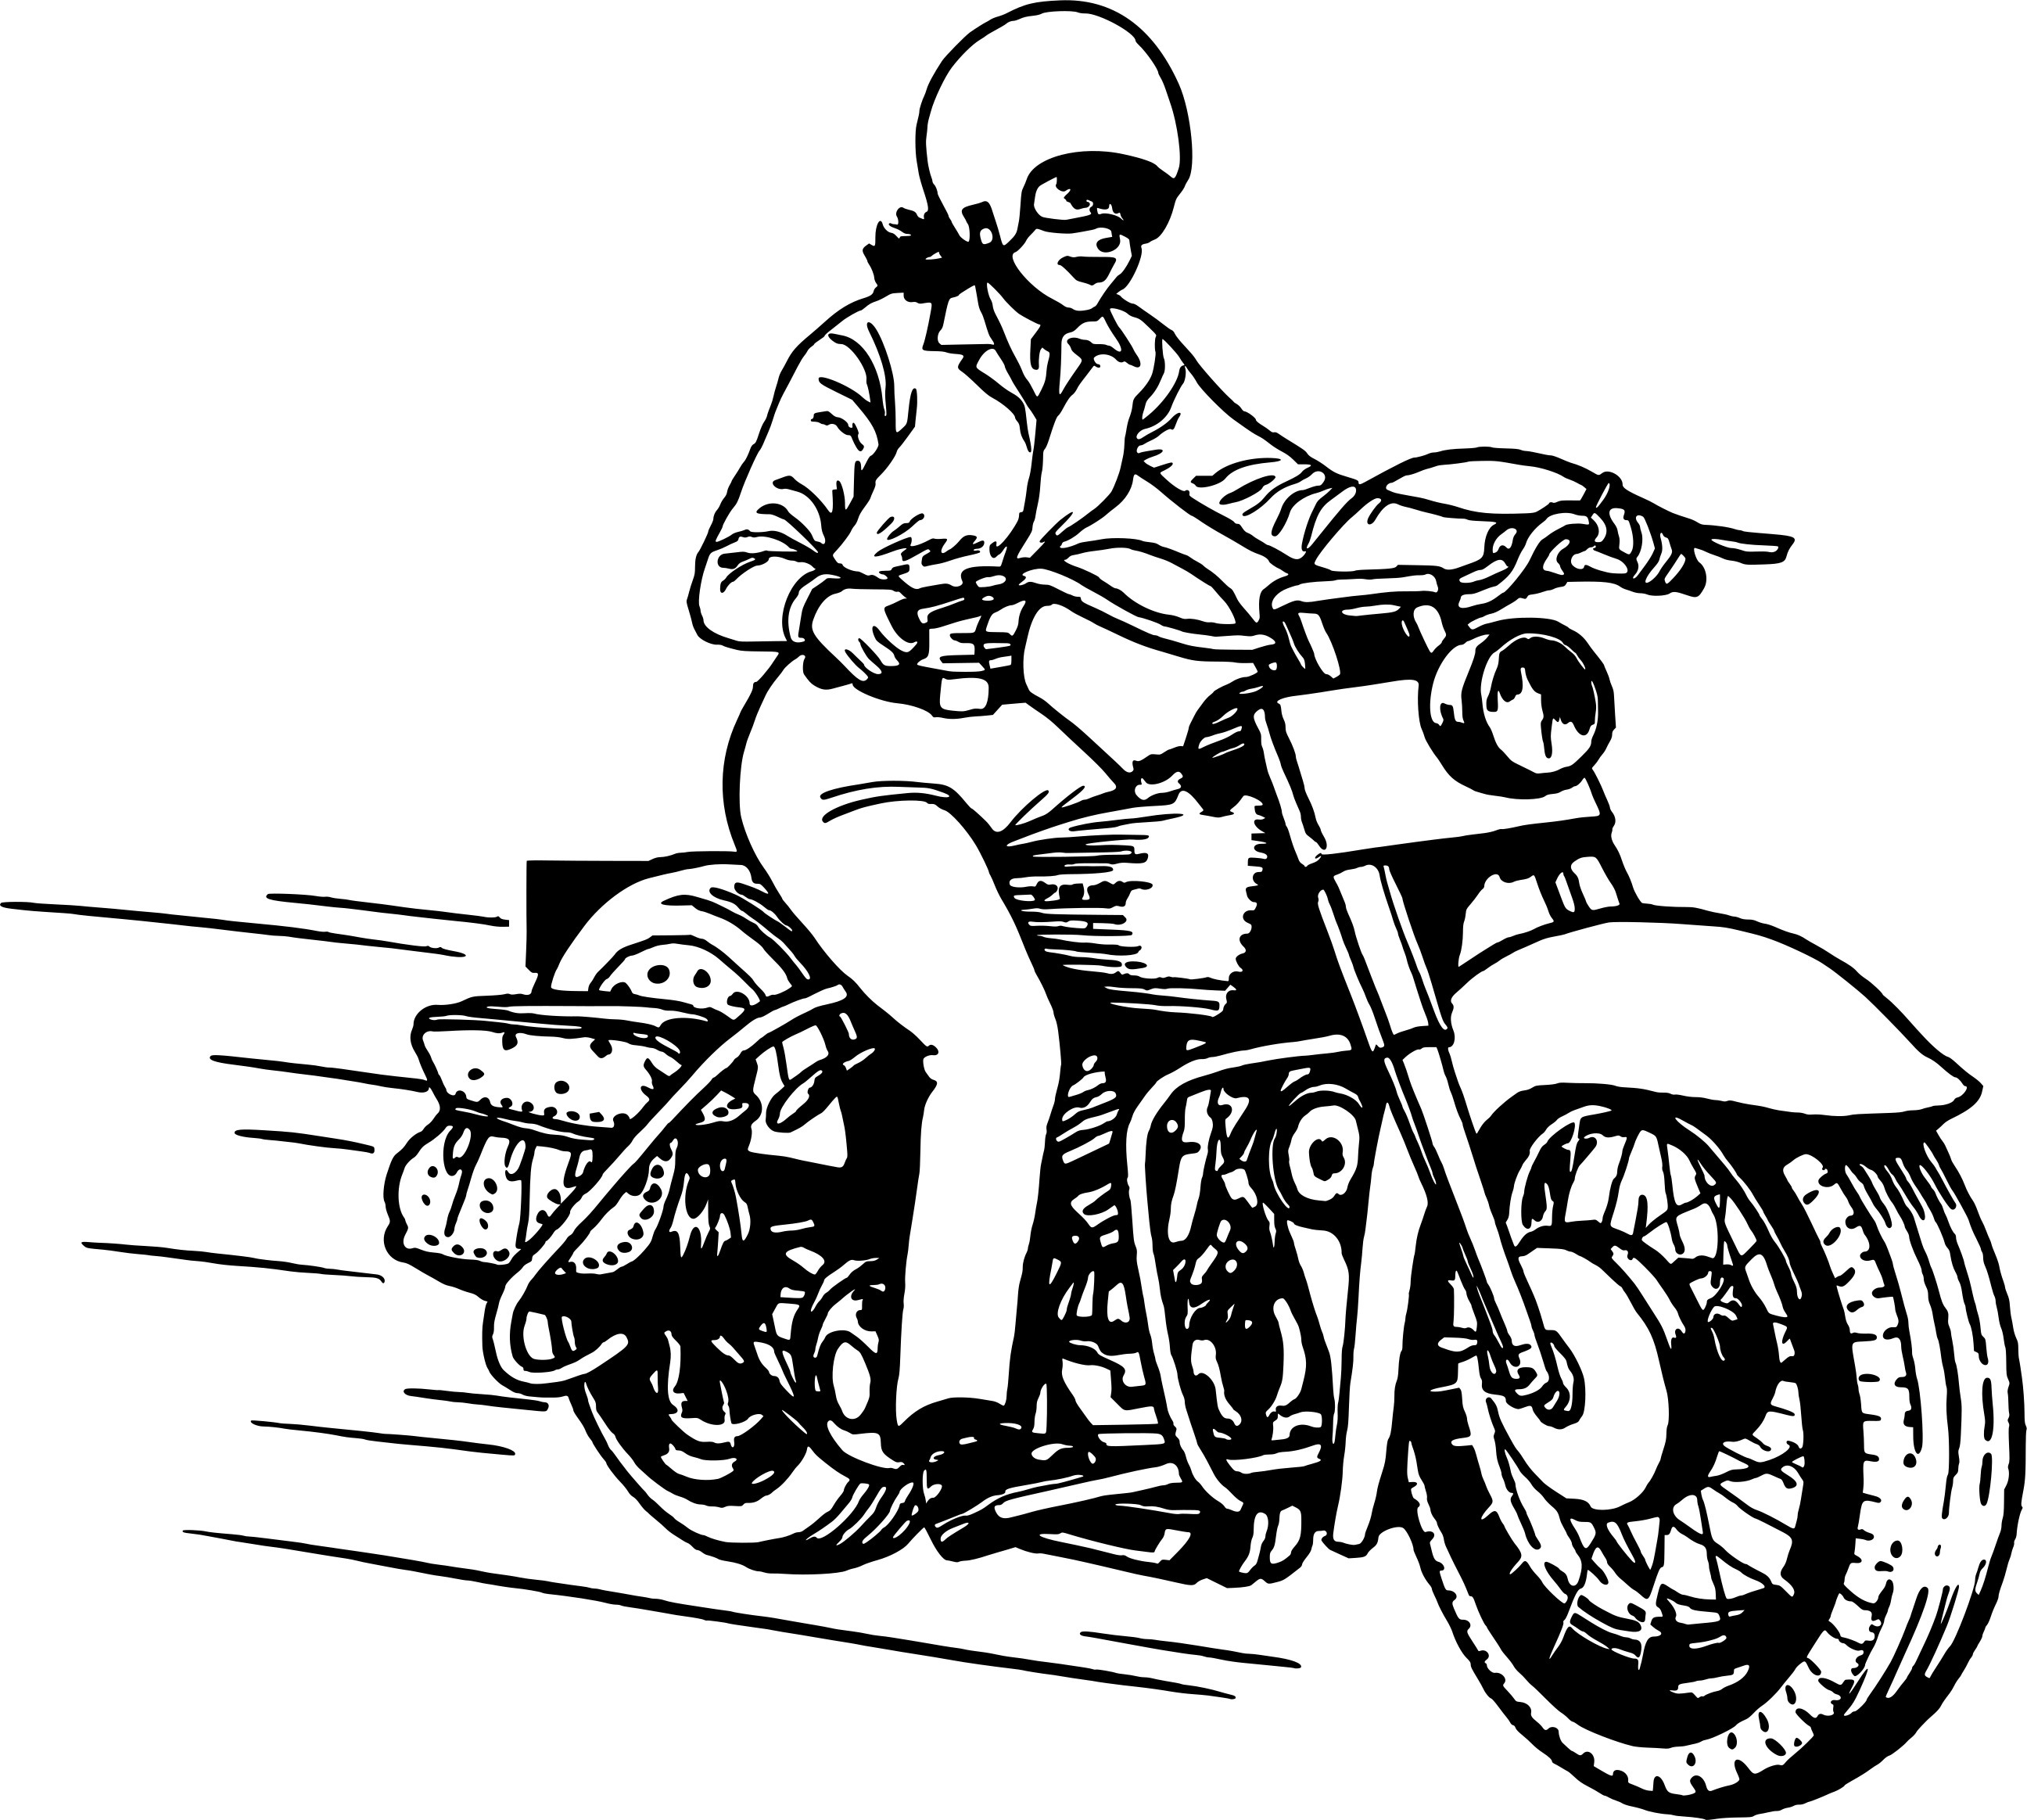motorbike: (374, 455, 2007, 1809)
person: (705, 7, 1700, 1565)
